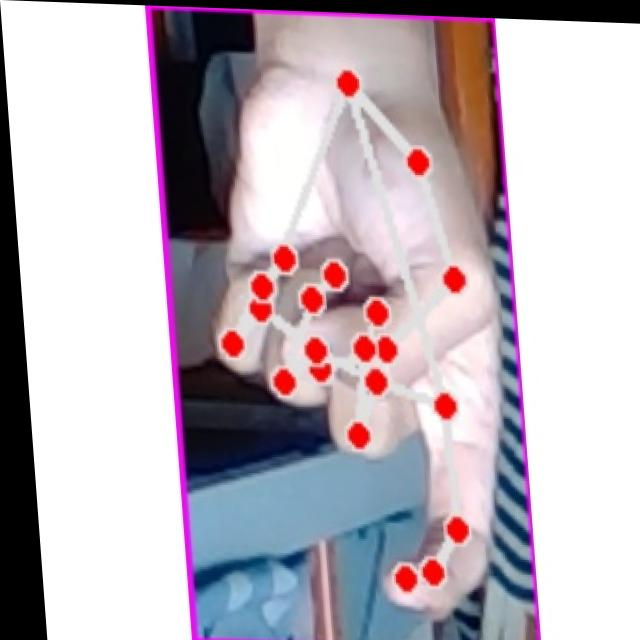X: (178, 52, 512, 626)
